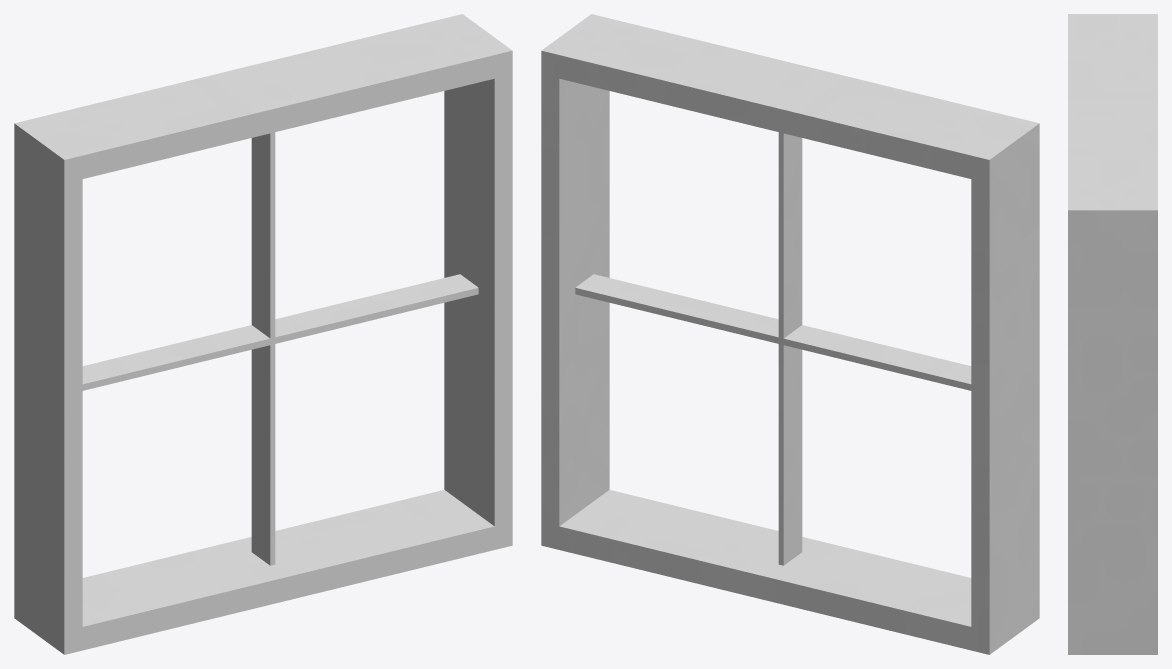
The model's file is Window_02.fbx.
3 views of the same model, side by side, from view 1: azimuth 30°, elevation 25°; view 2: azimuth 150°, elevation 25°; view 3: azimuth 270°, elevation 25° (orthographic). The views are drawn at different scales.
Parts seen in each view (by area): view 1: Window_02; view 2: Window_02; view 3: Window_02.
Part boxes in pixels (x1,y1,x2,y2): Window_02: (14,14,512,654); Window_02: (541,14,1039,654); Window_02: (1068,14,1157,654).
Size of the model in its own units: 1 by 1.06 by 0.1938.
